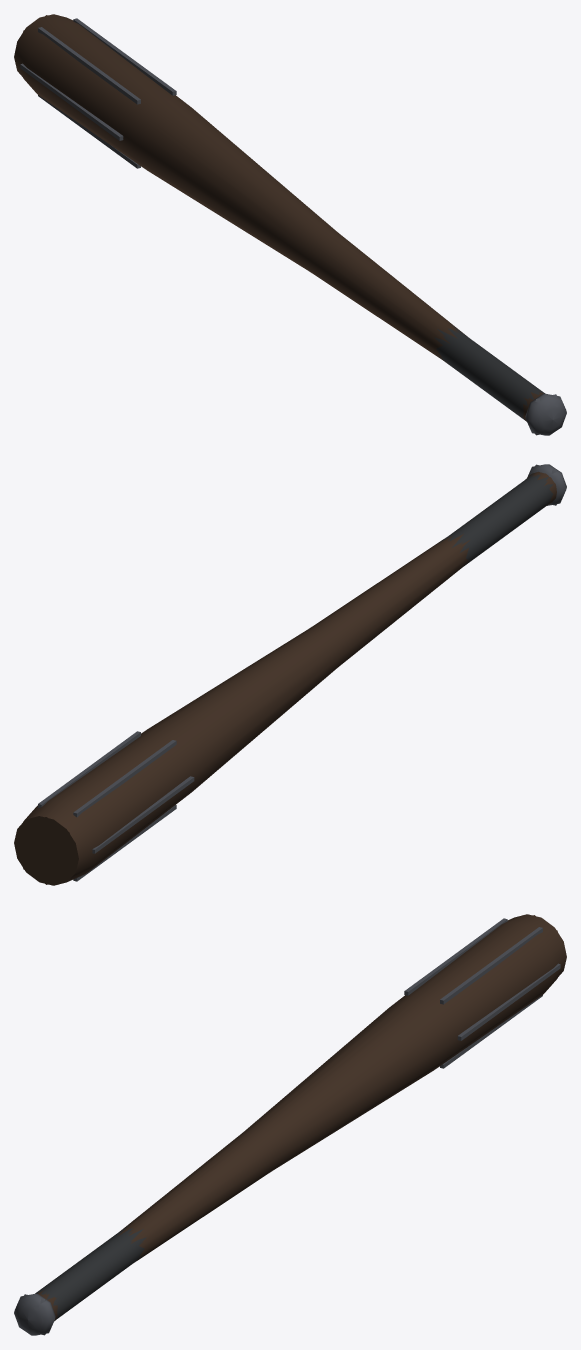
File: bat.glb
3 renders of one model, top to bottom at view 1: azimuth 30°, elevation 25°; view 2: azimuth 150°, elevation 25°; view 3: azimuth 330°, elevation 25°, orthographic.
Visible parts, largest first — view 1: L0, L1; view 2: L0, L1; view 3: L0, L1.
Part boxes in pixels (x1,y1,x2,y2): L0: (14, 14, 566, 435); L1: (23, 15, 565, 435); L0: (14, 464, 566, 885); L1: (14, 464, 557, 884); L0: (14, 914, 566, 1335); L1: (15, 915, 557, 1335).
Bounding box in the file's own units: 0.078 × 0.076 × 0.9176.
